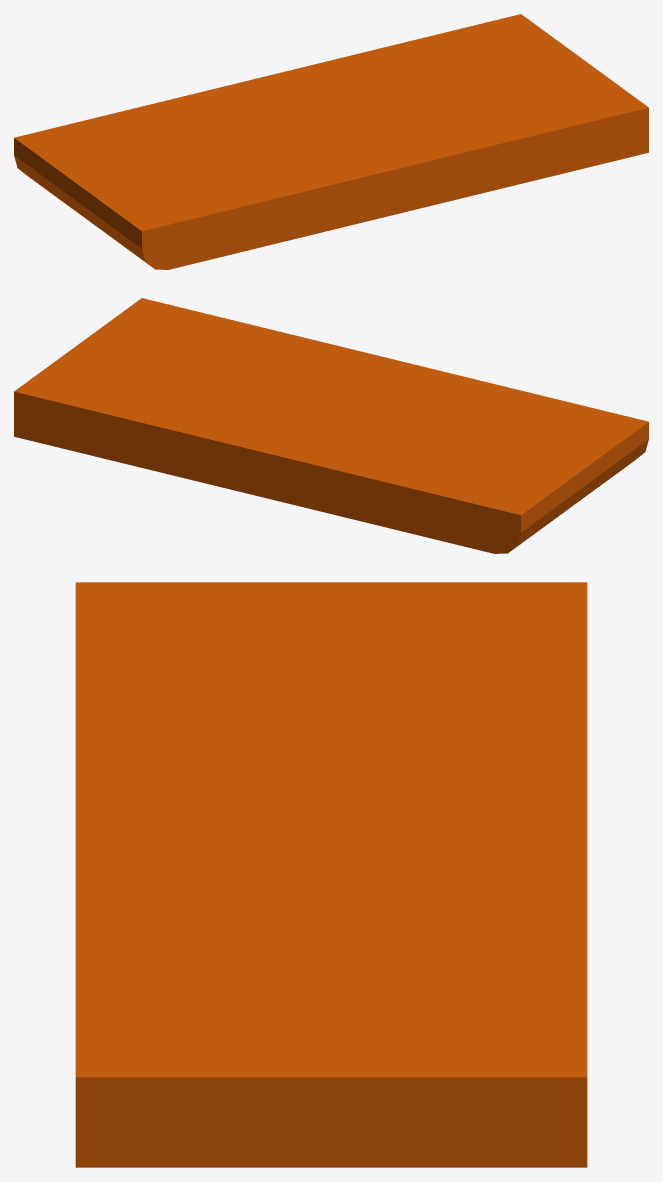
The picture shows the model from 3 angles, top to bottom: view 1: azimuth 30°, elevation 25°; view 2: azimuth 150°, elevation 25°; view 3: azimuth 270°, elevation 25°; orthographic projection. The views are drawn at different scales.
Size of the model in its own units: 3.84 by 0.3263 by 1.68.
